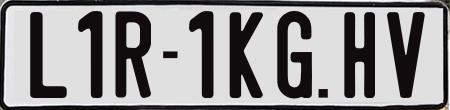1: (76, 8, 107, 97), (189, 10, 216, 99)
G: (275, 10, 310, 104)
H: (344, 9, 381, 99)
K: (229, 11, 268, 103)
L: (27, 11, 68, 100)
R: (115, 11, 154, 101)
V: (387, 12, 430, 101)
